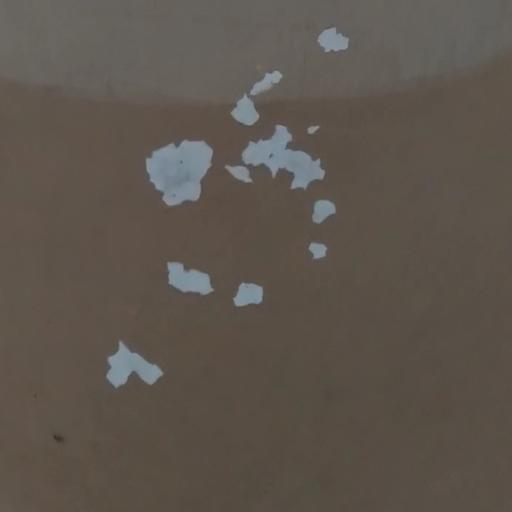peeling: (133, 11, 398, 338), (83, 329, 187, 410)
